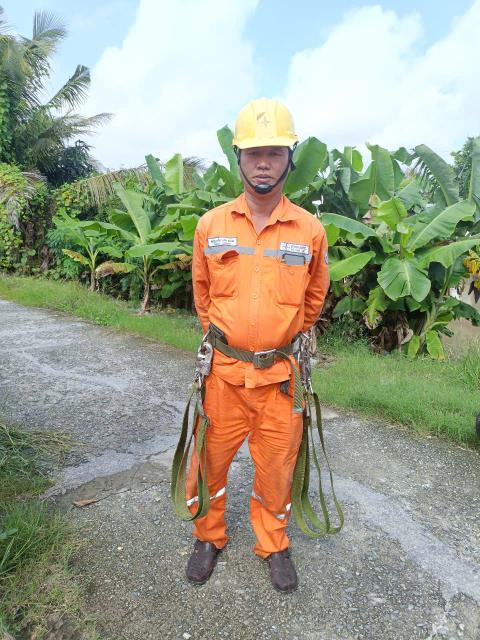harness: (195, 311, 326, 378)
helmet: (229, 88, 311, 157)
shoes: (180, 508, 237, 585), (256, 534, 312, 595)
